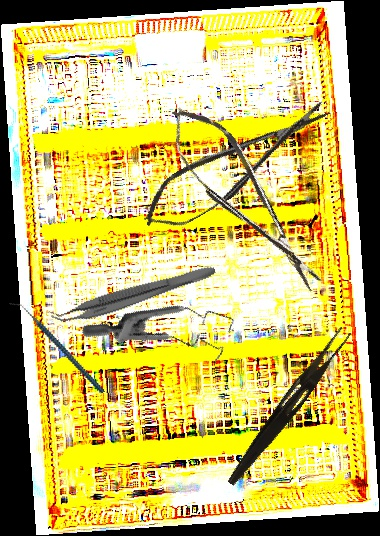Chopper: (9, 282, 105, 413)
Dressing Forceps: (224, 322, 353, 492)
Micro Scissor: (156, 91, 334, 308), (131, 90, 343, 242)
Speculum: (79, 259, 249, 413)
Tissue Forceps: (48, 254, 218, 333)
